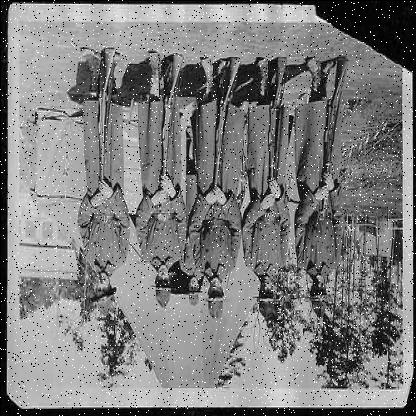rifle: (91, 41, 120, 192)
